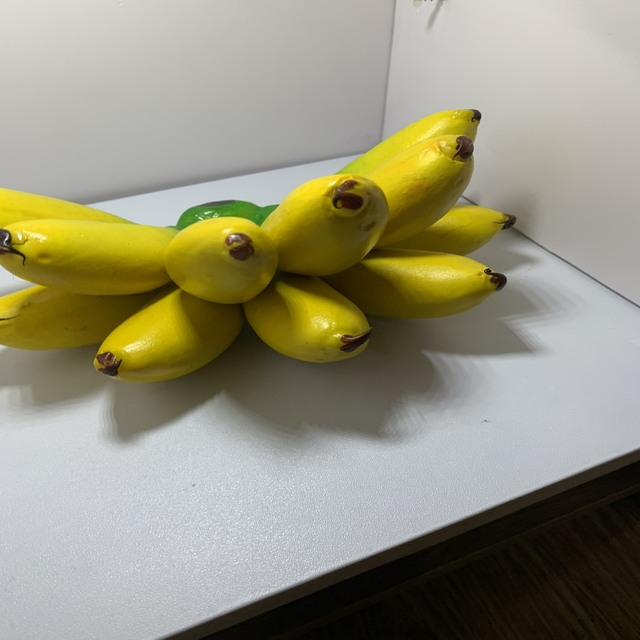Chuoi: (0, 102, 512, 390)
